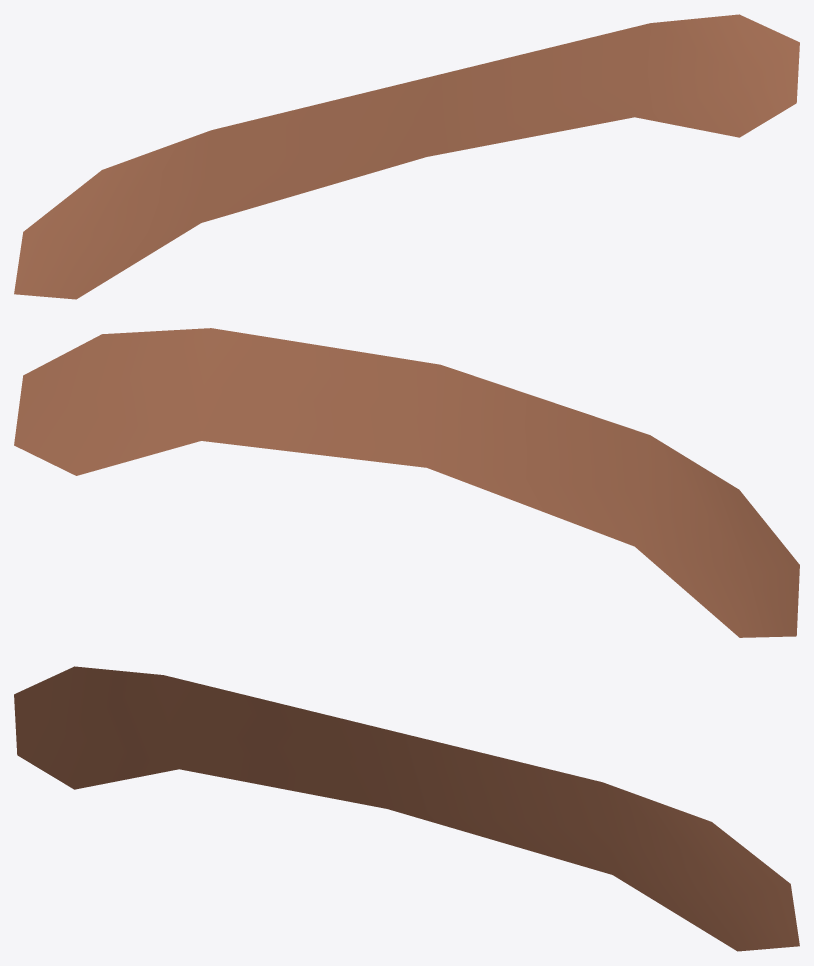
The model's file is Mouth_White_5.fbx.
The picture shows the model from 3 angles, top to bottom: view 1: azimuth 30°, elevation 25°; view 2: azimuth 150°, elevation 25°; view 3: azimuth 330°, elevation 25°; orthographic projection.
Visible parts, largest first — view 1: Mouth_White_5; view 2: Mouth_White_5; view 3: Mouth_White_5.
Boxes of the visible parts, x1,y1,x2,y2 form: Mouth_White_5: (14,14,799,299); Mouth_White_5: (14,328,799,637); Mouth_White_5: (14,666,799,951).
Bounding box in the file's own units: 8.32 × 1.71 × 0.6506.
